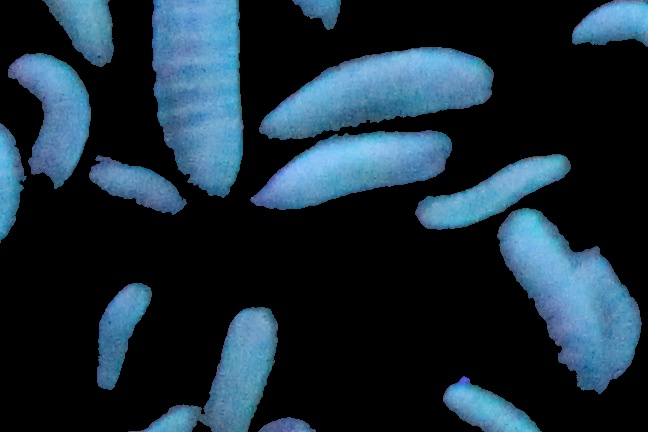larvae: (251, 48, 494, 137), (151, 1, 247, 208), (496, 209, 602, 390), (251, 132, 455, 218), (415, 156, 577, 229), (6, 52, 92, 184), (201, 308, 279, 432), (577, 244, 644, 384), (93, 277, 152, 393), (89, 153, 185, 223), (40, 1, 116, 68), (443, 383, 542, 432), (570, 6, 648, 54)
